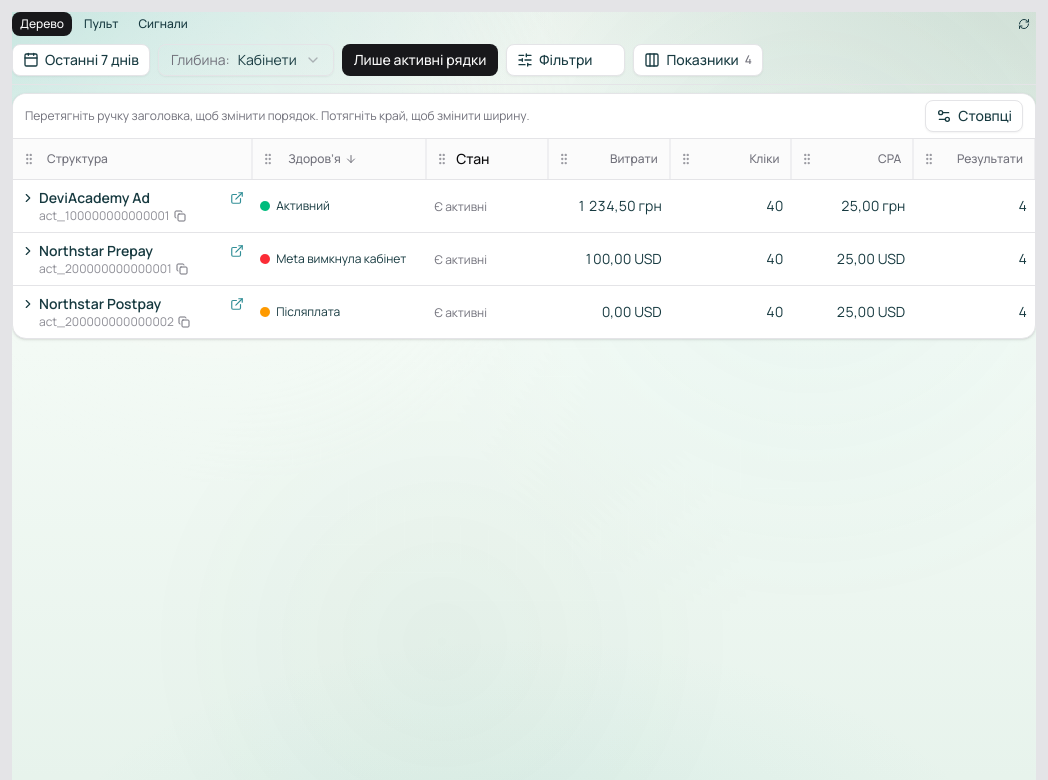
Test: Fleet Board › recursively expands through visible single-child ancestors
Click the row that starts with "DeviAcademy Ad": click(524, 206) top-left (13, 179), bottom-right (1035, 232)
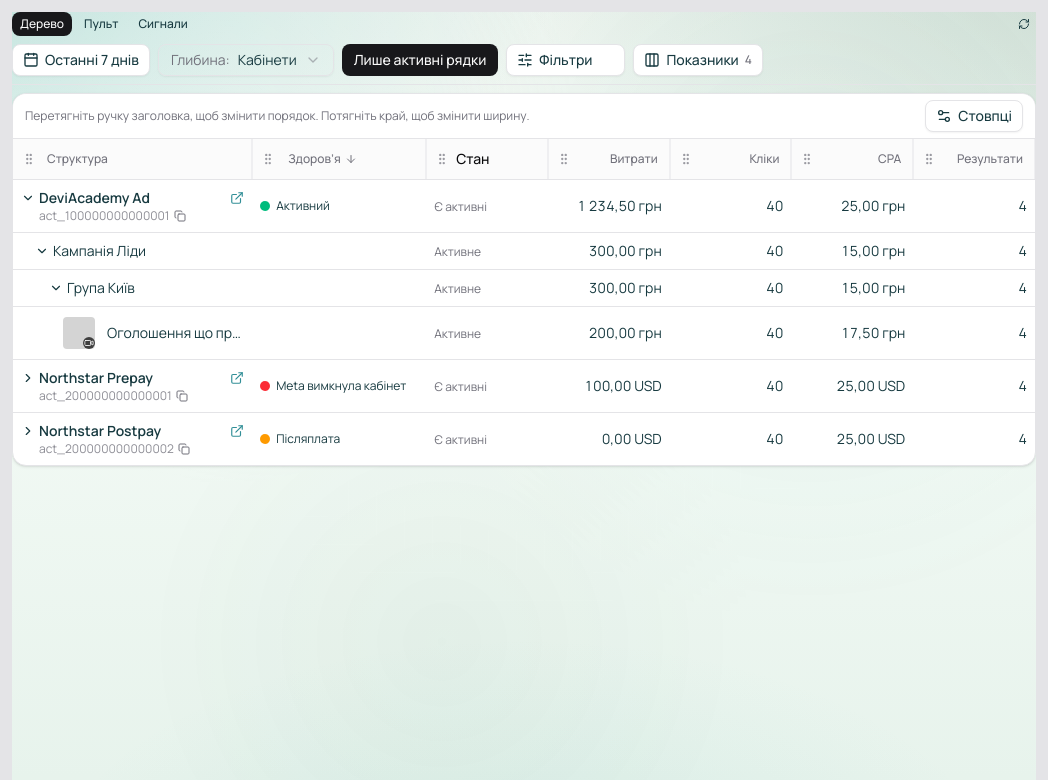
expect the text "Кампанія Ліди" is shown: met, box top-left (53, 240), bottom-right (146, 260)
expect the text "Група Київ" is shown: met, box top-left (67, 278), bottom-right (135, 298)
expect the text "Оголошення що працює" is shown: met, box top-left (107, 322), bottom-right (244, 342)
